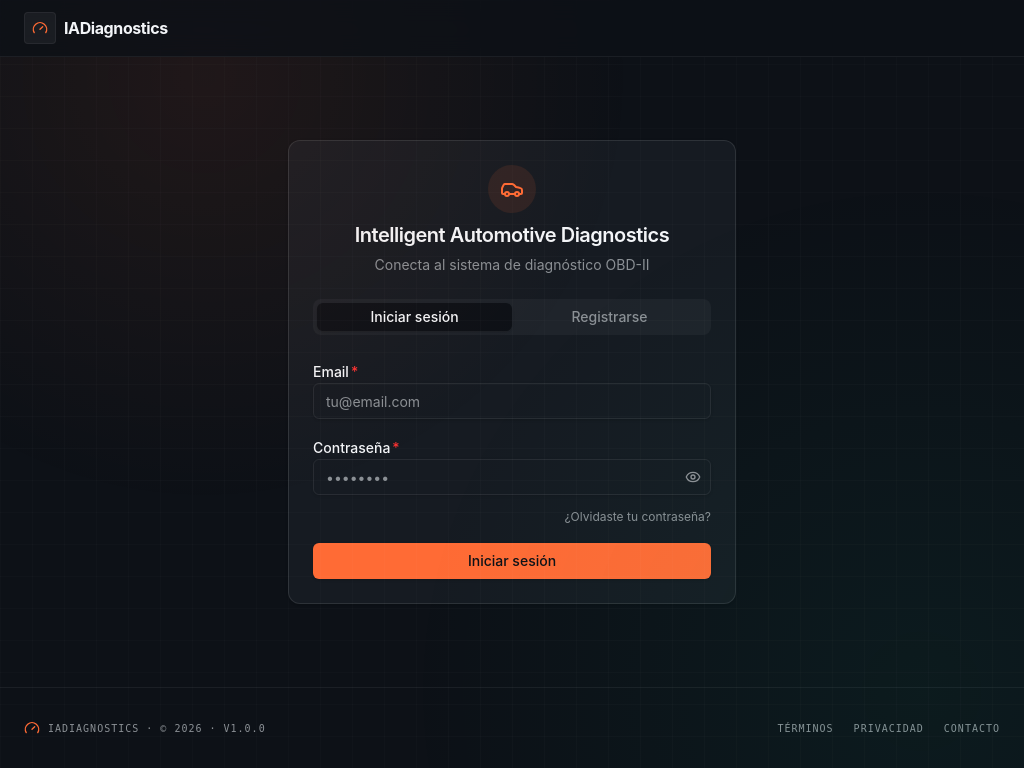
Test: AuthPage — segundo factor › muestra el error si el codigo es incorrecto y deja reintentar
Step 1. Type "taller@example.com" into the field with id "login-email" → (512, 401), box [313, 383, 711, 419]
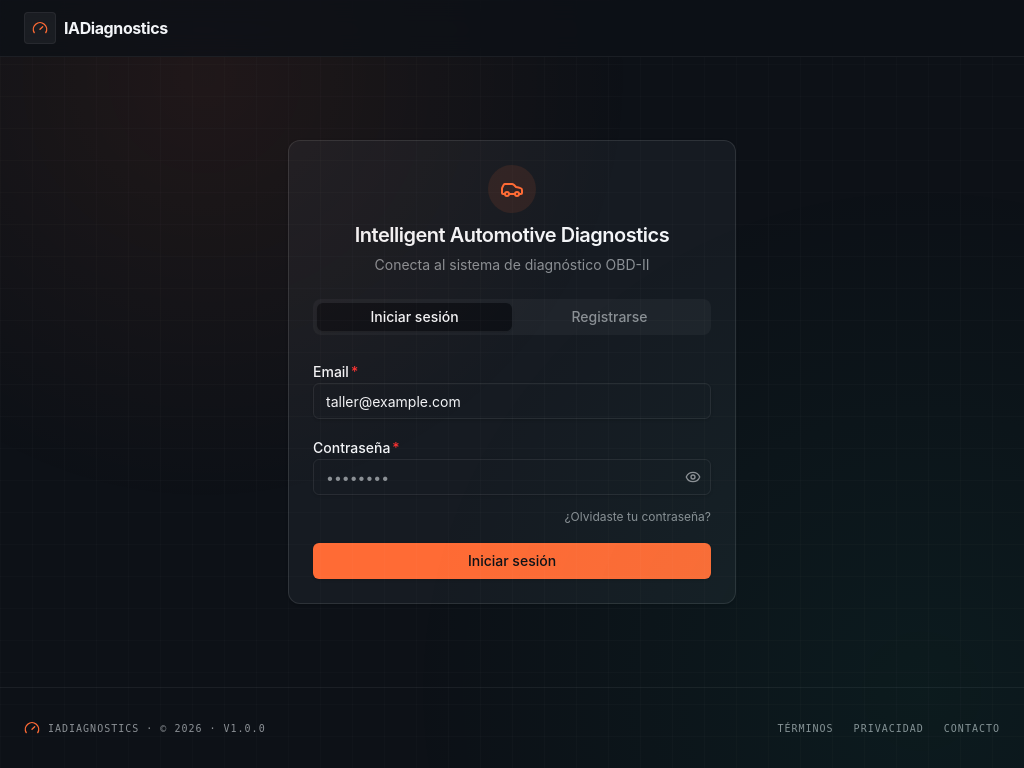
Step 2. Type "Diagnostico2026!" into the password field with id "login-password" → (512, 477), box [313, 459, 711, 495]
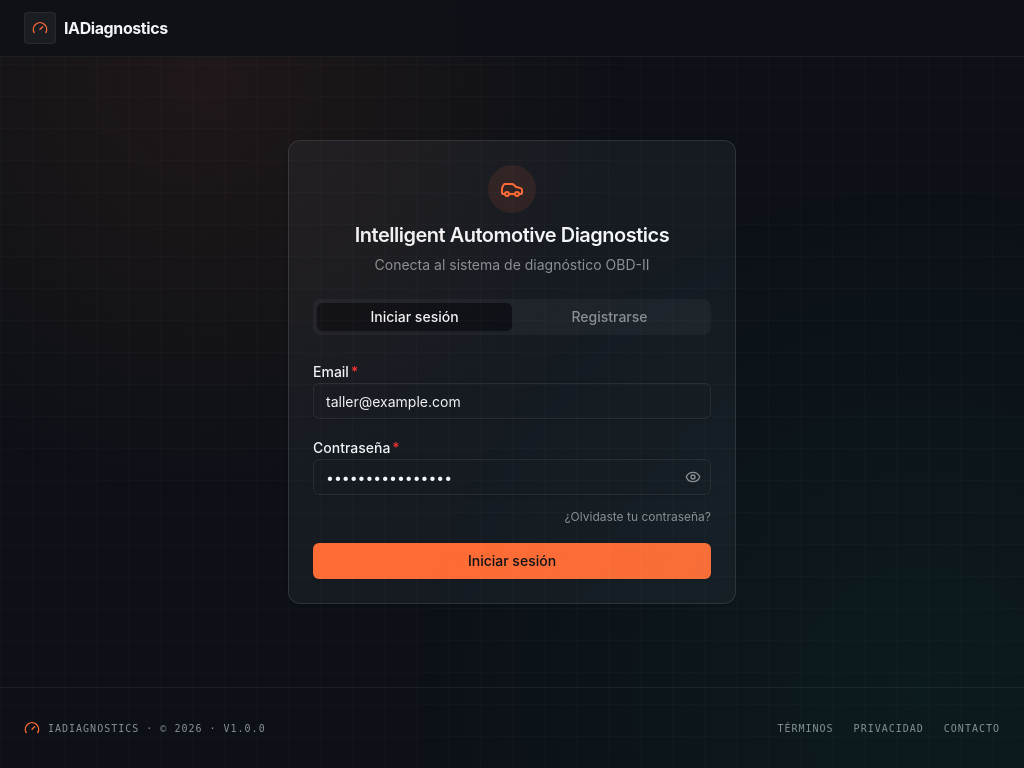
Step 3. Click the button "Iniciar sesión" → (512, 561), box [313, 543, 711, 579]
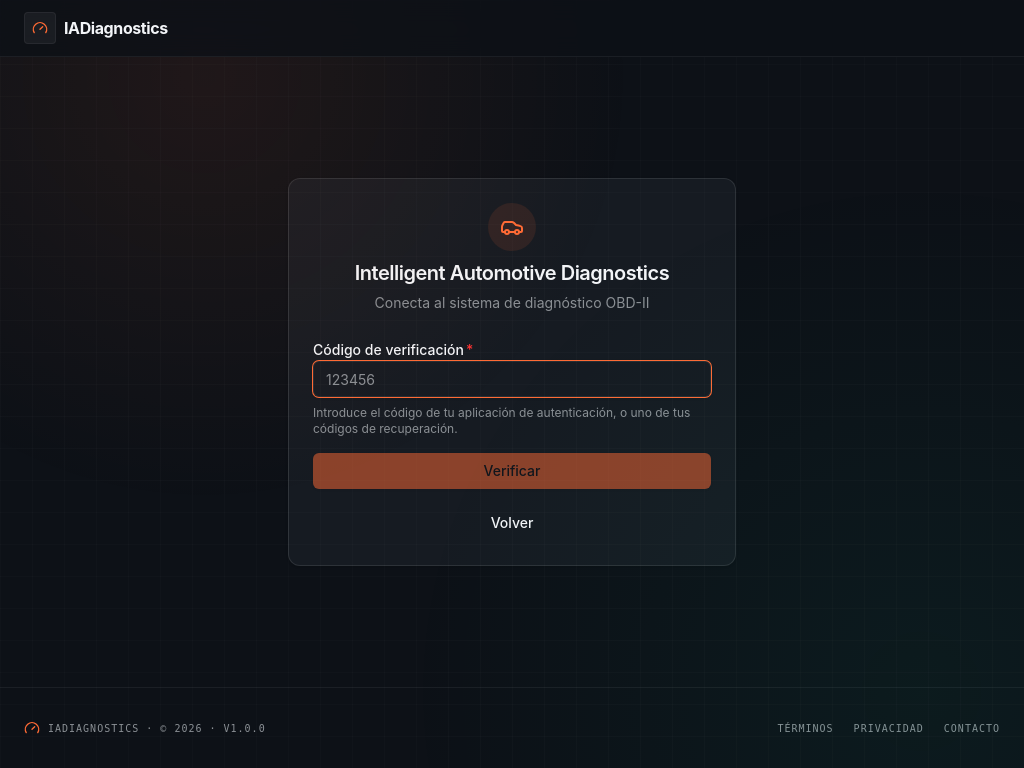
Expected: the field labelled "Código de verificación*" is shown
Step 4. Type "000000" into the field labelled "Código de verificación*" → (512, 379), box [313, 361, 711, 397]
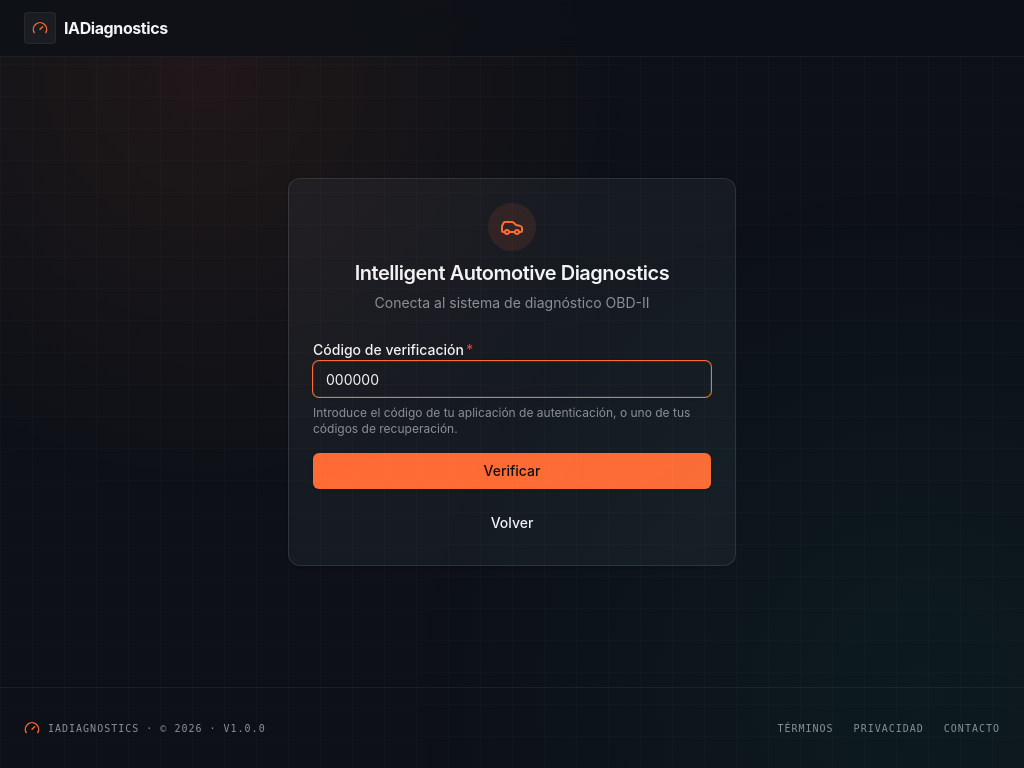
Step 5. Click the button "Verificar" → (512, 471), box [313, 453, 711, 489]
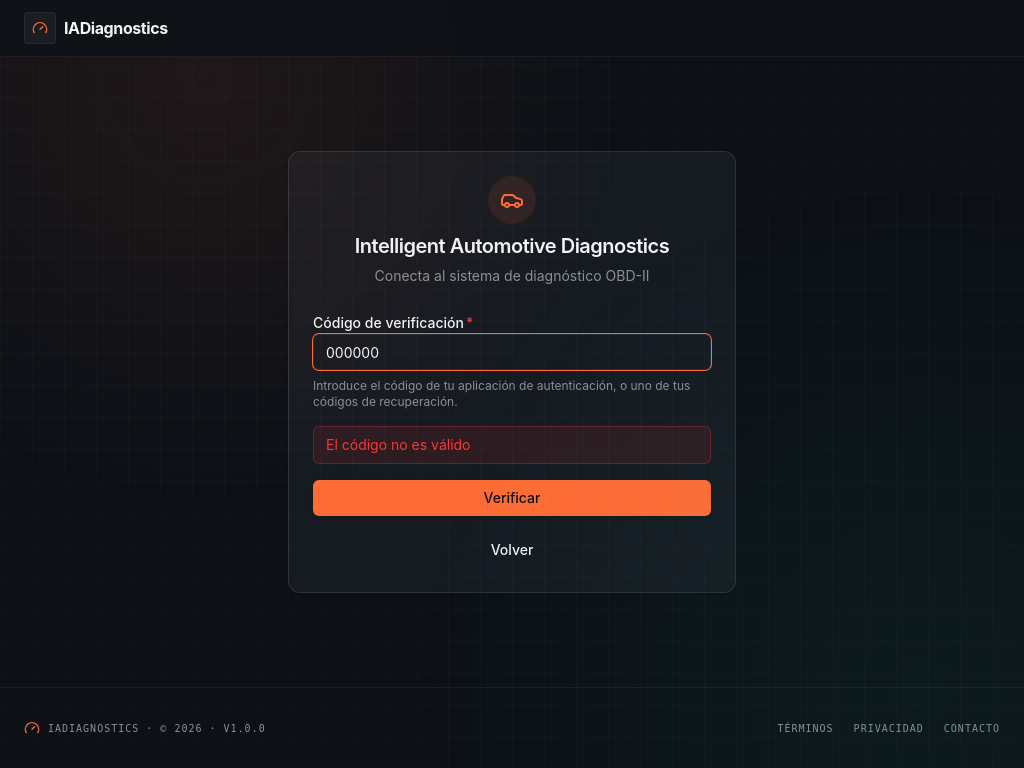
Expected: the text "El código no es válido" is shown, [313, 426, 711, 464]
